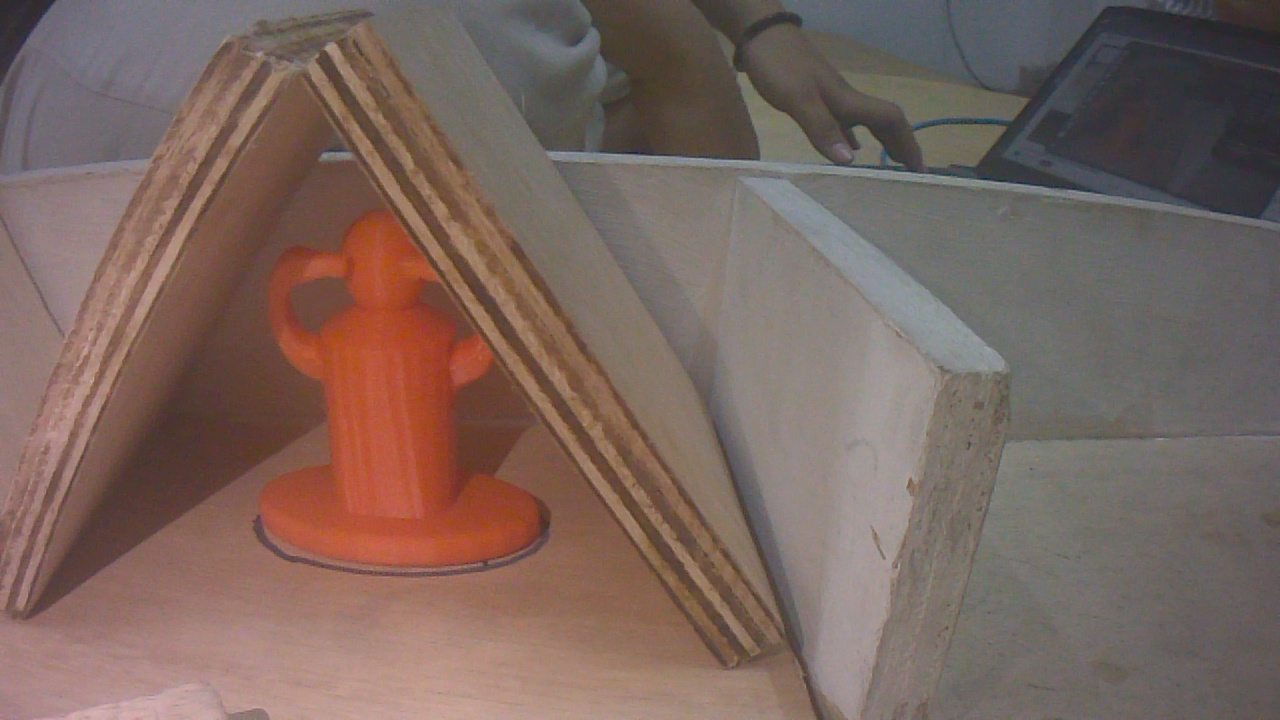real: (225, 211, 567, 593)
